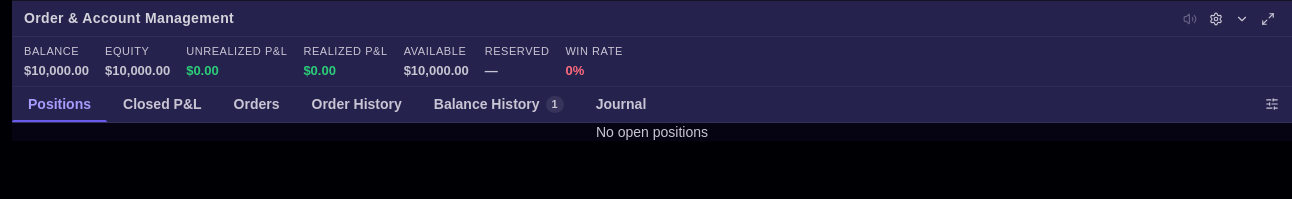
it: Section 4.7 — Balance History tab › 4.7: with a seeded BalanceEvent, shows the action text in the table
This screenshot has width=1292, height=199.
Click the button "Balance History 1".
click(499, 104)  # box [418,87,580,122]
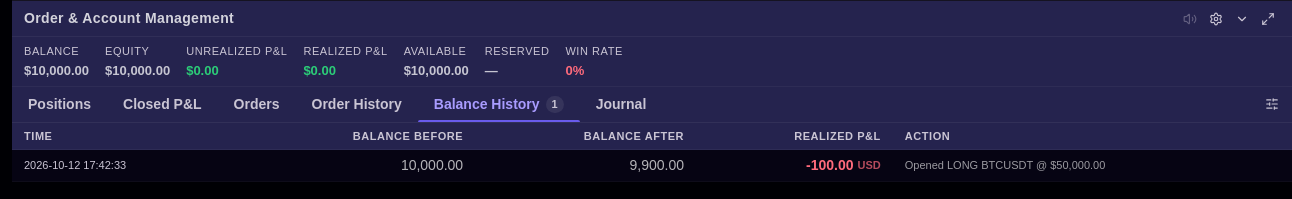
expect the text "Opened LONG BTCUSDT @ $50,000.00" is shown: met, box [893,150,1291,182]
